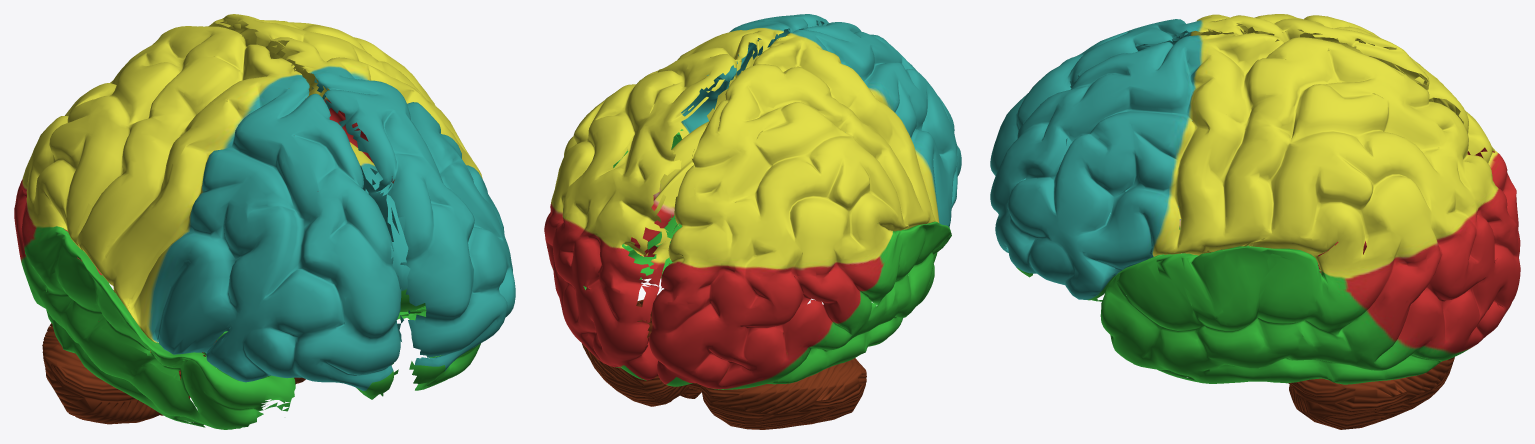
The model's file is BrainSurfaceMesh.glb.
3 views of the same model, side by side, from view 1: azimuth 30°, elevation 25°; view 2: azimuth 150°, elevation 25°; view 3: azimuth 270°, elevation 25° (orthographic). The views are drawn at different scales.
Parts seen in each view (by area): view 1: Brain_Part_06_Colour_Brain_Texture_0.001, Brain_Part_02, Brain_Part_04; view 2: Brain_Part_06_Colour_Brain_Texture_0.001, Brain_Part_02, Brain_Part_04; view 3: Brain_Part_06_Colour_Brain_Texture_0.001, Brain_Part_02.
Part boxes in pixels (bbox=[...]): Brain_Part_06_Colour_Brain_Texture_0.001: bbox=[14, 14, 515, 429]; Brain_Part_02: bbox=[42, 290, 305, 424]; Brain_Part_04: bbox=[203, 142, 426, 355]; Brain_Part_06_Colour_Brain_Texture_0.001: bbox=[544, 14, 961, 389]; Brain_Part_02: bbox=[582, 296, 866, 429]; Brain_Part_04: bbox=[631, 121, 906, 293]; Brain_Part_06_Colour_Brain_Texture_0.001: bbox=[990, 14, 1520, 384]; Brain_Part_02: bbox=[1288, 299, 1454, 429].
Bounding box in the file's own units: 1.04 × 0.9808 × 1.32.
1 material, 1 textured.
